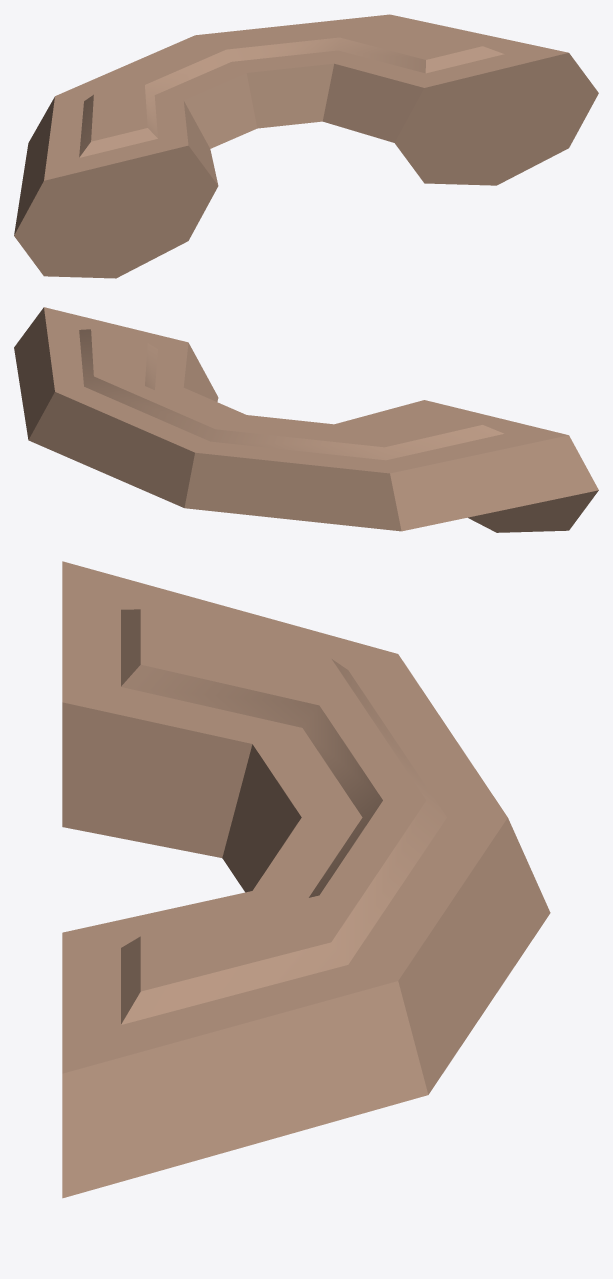
File: Garden_bed_trellis.fbx
3 views of the same model, one above another, from view 1: azimuth 30°, elevation 25°; view 2: azimuth 150°, elevation 25°; view 3: azimuth 270°, elevation 25° (orthographic). The views are drawn at different scales.
Visible parts, largest first — view 1: Garden_bed_trellis; view 2: Garden_bed_trellis; view 3: Garden_bed_trellis.
Boxes of the visible parts, x1=… form: Garden_bed_trellis: x1=14, y1=14, x2=598, y2=278; Garden_bed_trellis: x1=14, y1=307, x2=598, y2=532; Garden_bed_trellis: x1=62, y1=561, x2=550, y2=1198.
Size of the model in its own units: 497 by 100 by 179.
